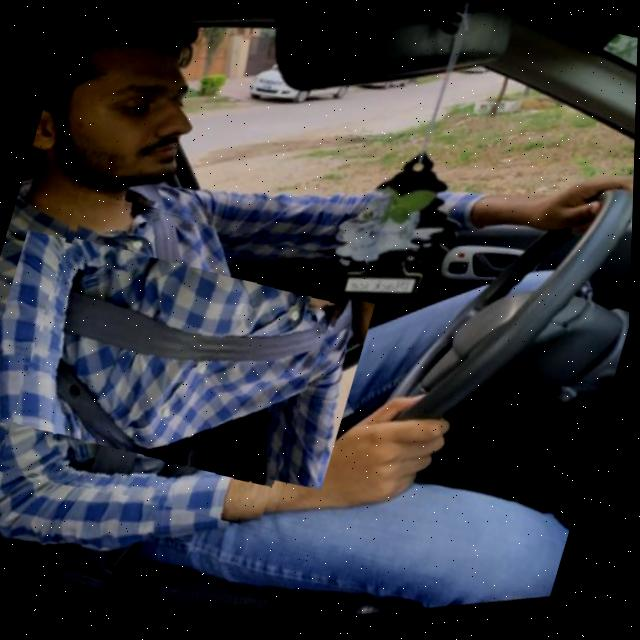seatbelt: (0, 178, 353, 543)
